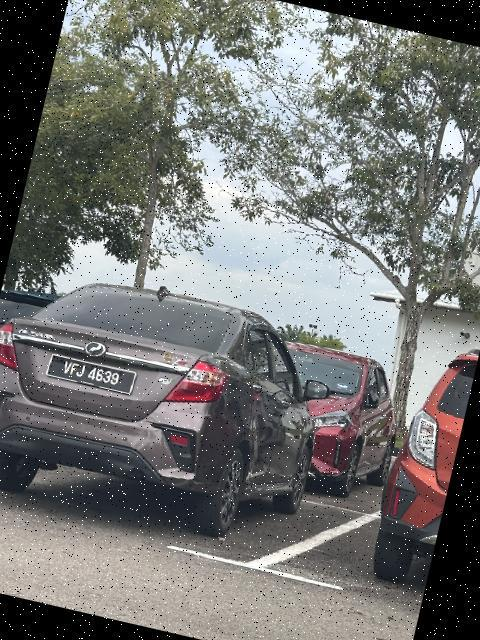License_Plate: (43, 351, 139, 399)
VFJ4639: (43, 351, 139, 399)
car: (1, 249, 344, 551)
